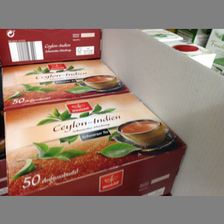tea: (3, 91, 186, 194), (1, 58, 129, 110)
